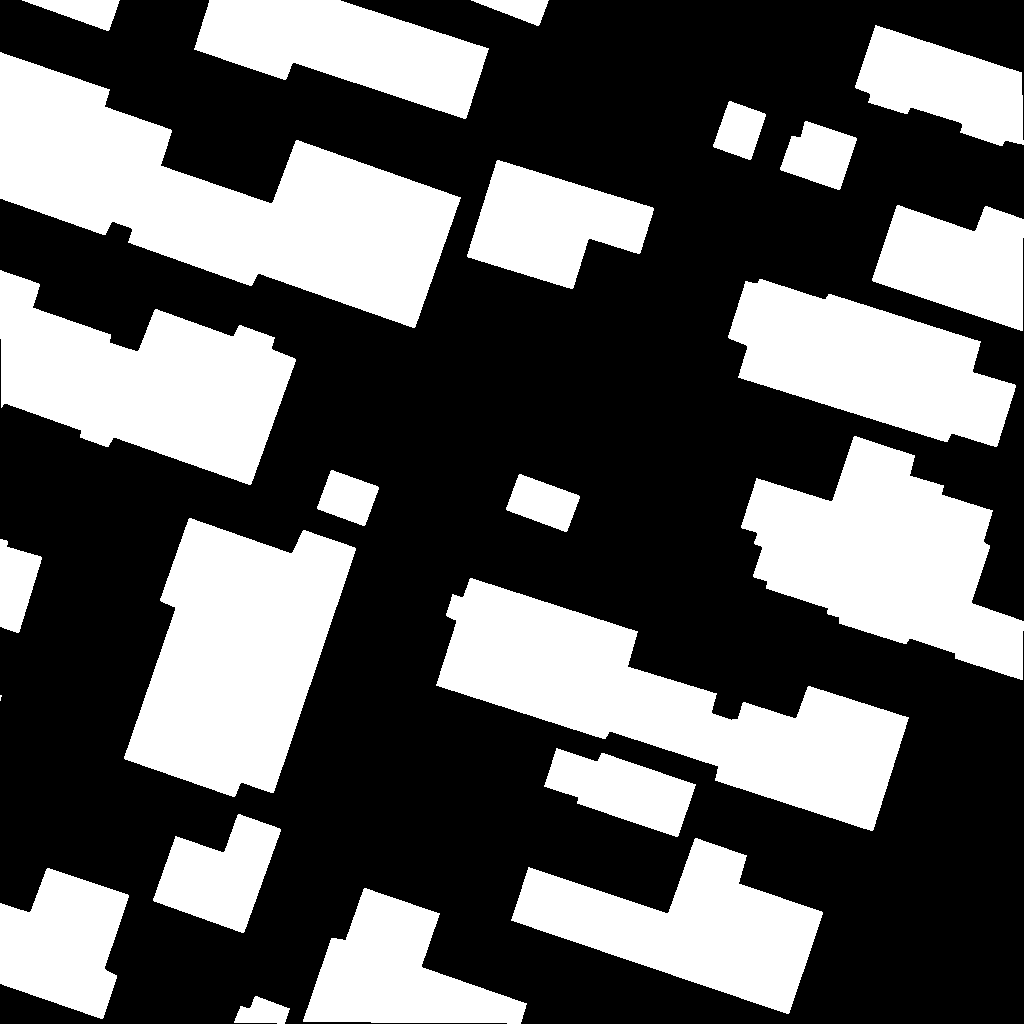building: (0, 52, 462, 329), (436, 578, 910, 832), (741, 436, 1024, 681), (124, 518, 357, 798), (0, 270, 297, 486), (511, 838, 824, 1015), (728, 279, 1017, 448), (194, 0, 490, 120), (303, 888, 528, 1024), (467, 160, 655, 290), (855, 25, 1024, 153), (0, 868, 130, 1020), (872, 205, 1024, 332), (153, 814, 282, 934), (544, 748, 697, 838), (780, 121, 858, 191), (506, 474, 581, 533), (0, 539, 43, 634), (317, 470, 380, 527), (713, 101, 767, 161), (21, 0, 121, 32), (470, 0, 550, 27), (234, 996, 291, 1024), (0, 695, 3, 704)
